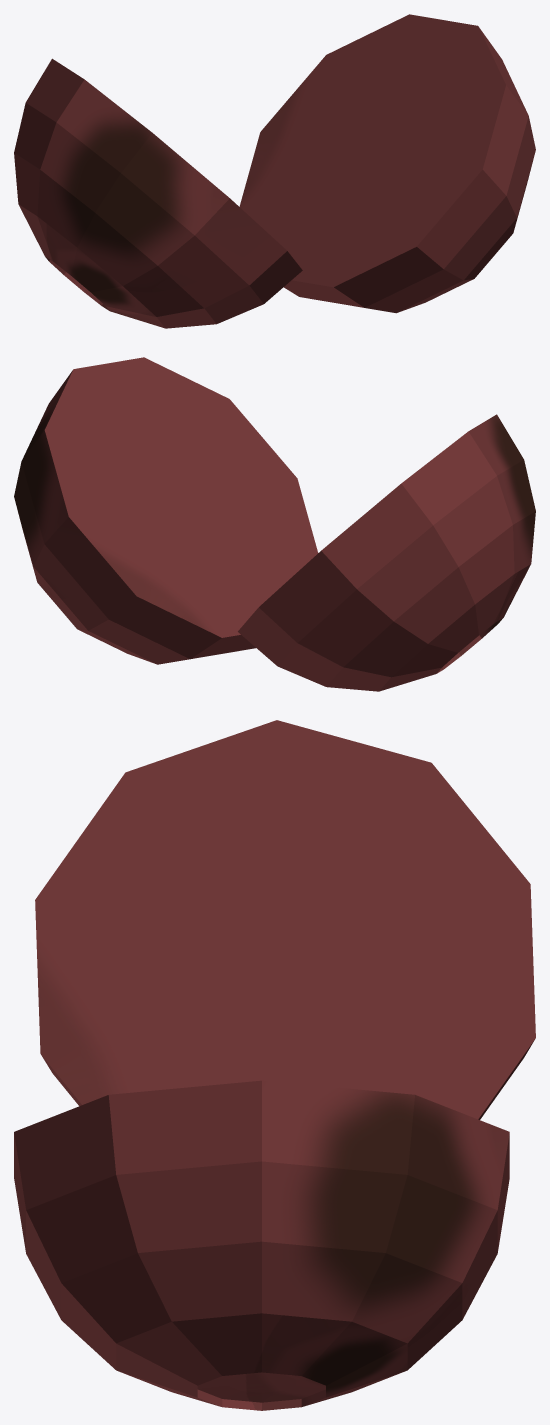
The model's file is lulopatido.fbx.
3 views of the same model, one above another, from view 1: azimuth 30°, elevation 25°; view 2: azimuth 150°, elevation 25°; view 3: azimuth 270°, elevation 25° (orthographic). The views are drawn at different scales.
Visible parts, largest first — view 1: pSphere4; view 2: pSphere4; view 3: pSphere4.
Boxes of the visible parts, left/top/right/bottom form: pSphere4: left=14, top=14, right=535, bottom=328; pSphere4: left=14, top=357, right=535, bottom=691; pSphere4: left=14, top=720, right=535, bottom=1410.
Bounding box in the file's own units: 165 × 95.55 × 100.
